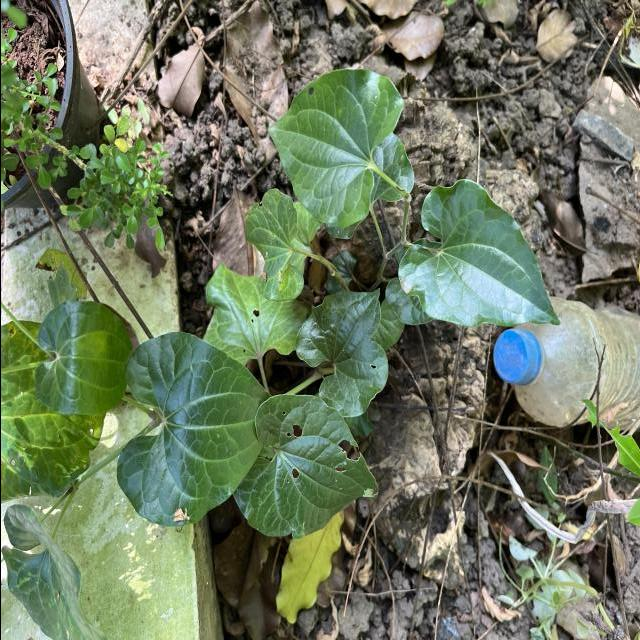Piper longum: (113, 330, 273, 529), (396, 177, 562, 332), (264, 66, 405, 232)
